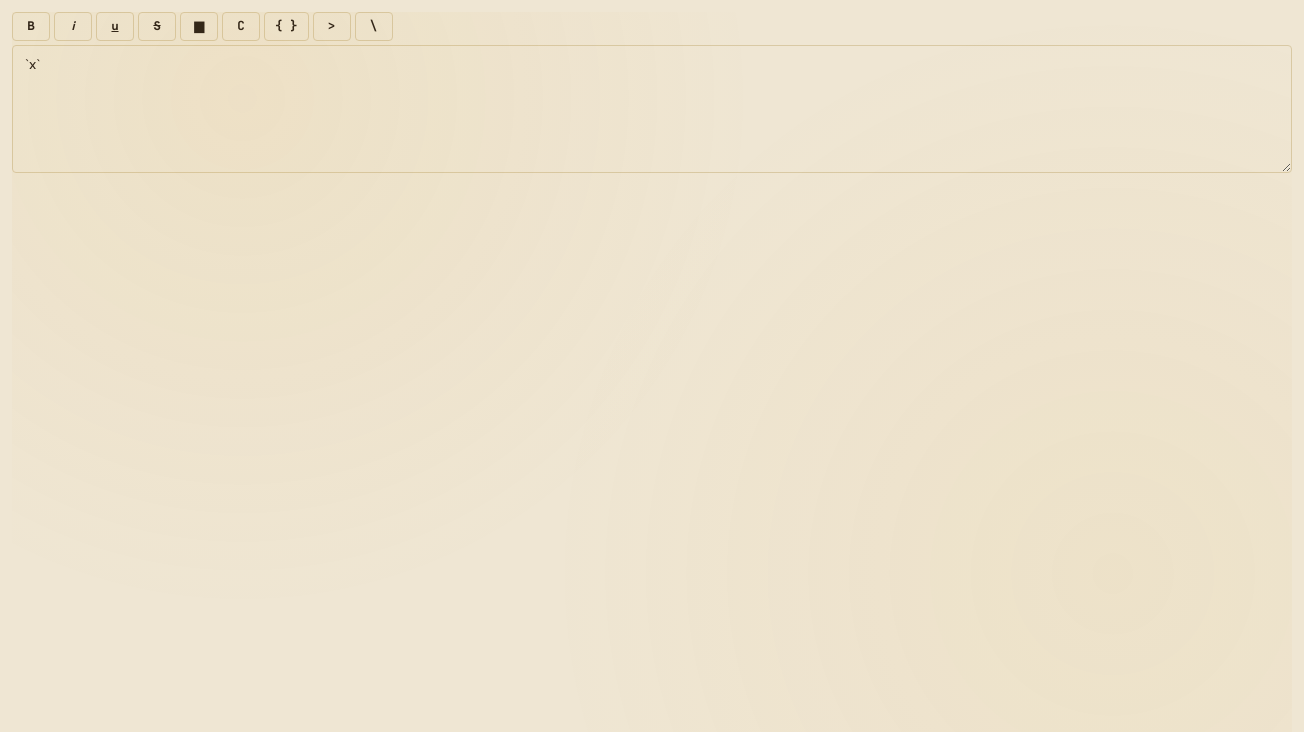
Test: MarkupTextarea › shows the refusal reason and keeps the text unchanged
Click the button titled "Bold" at (31, 26), box [12,12,50,41]
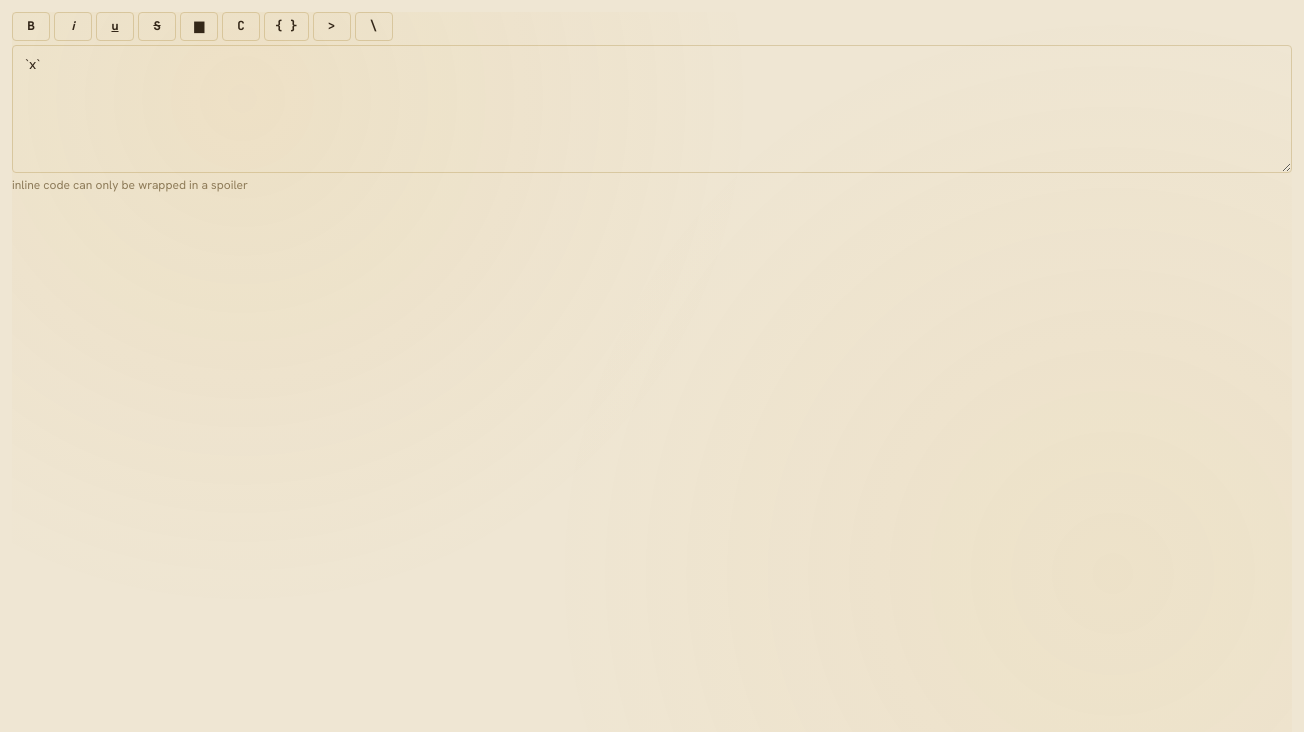
Result: the text "inline code can only be wrapped in a spoiler" is shown at [12,177,248,193]
